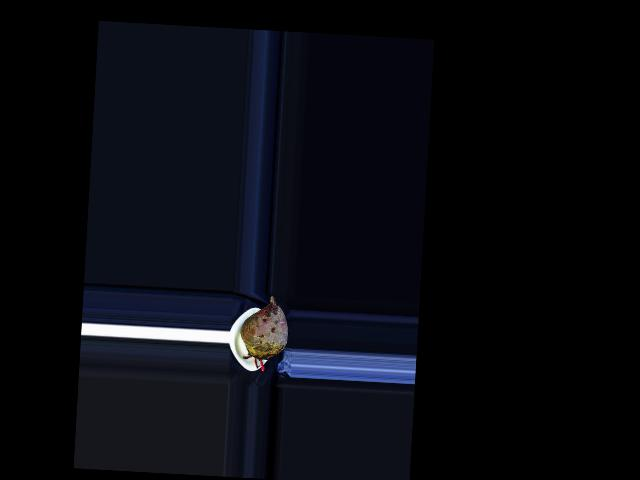beet: (238, 295, 289, 372)
